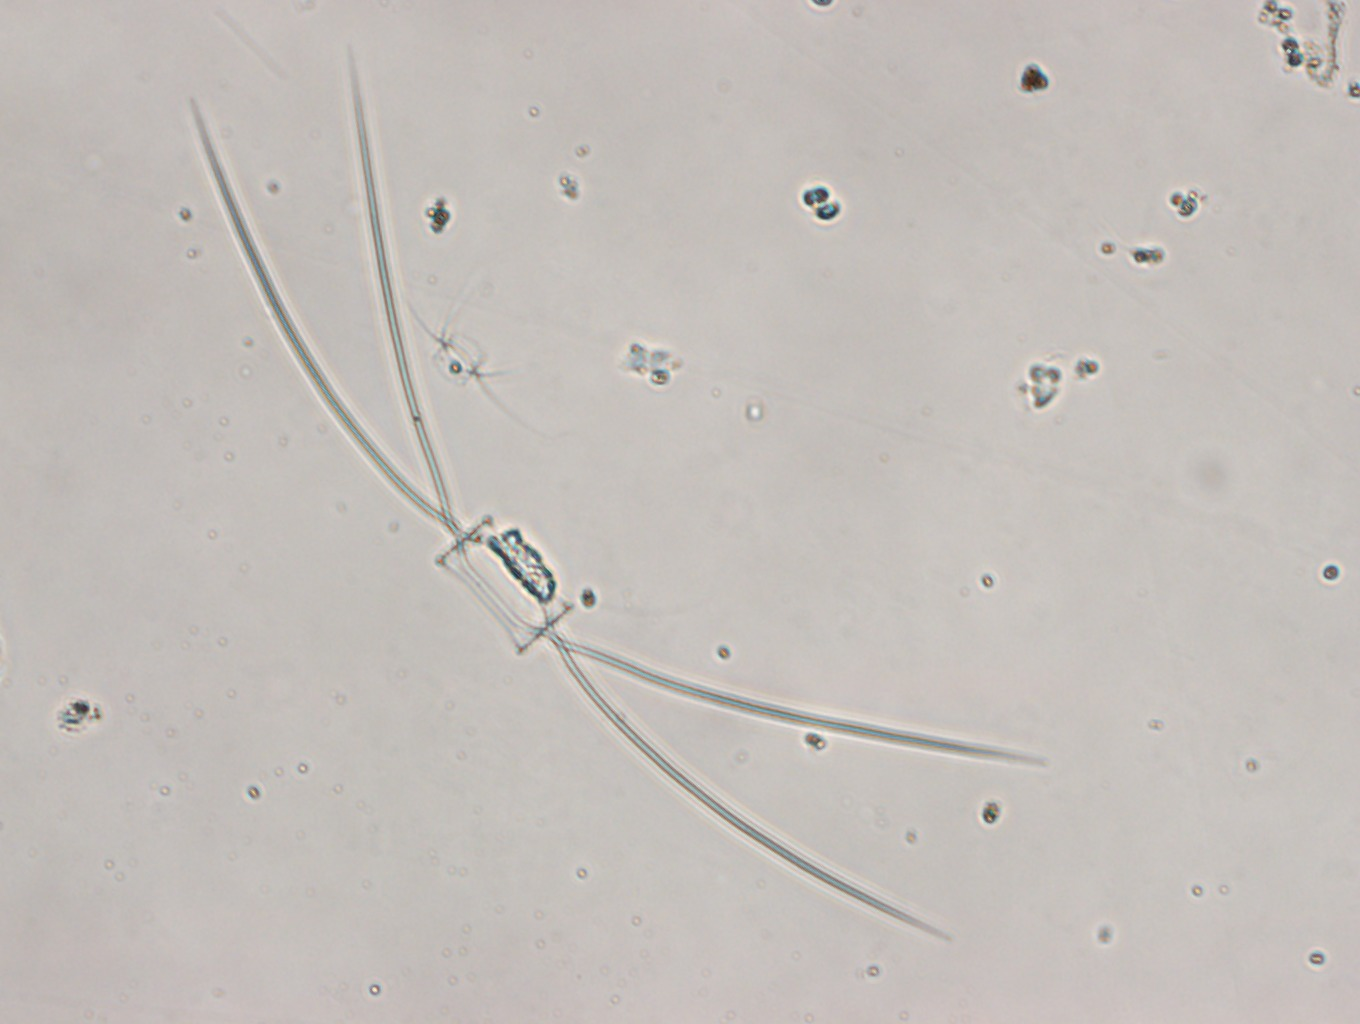chaetoceros: (186, 39, 1045, 940)
